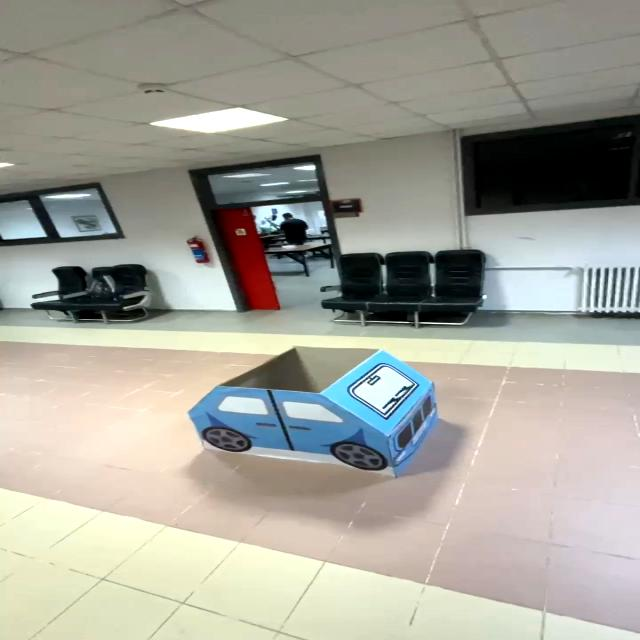blue_car: (167, 331, 469, 507)
